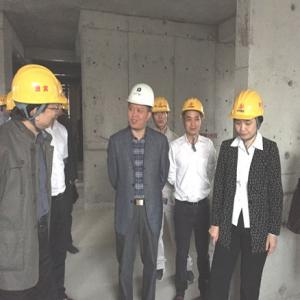white: (125, 81, 155, 131)
yellow: (11, 65, 59, 132), (233, 91, 265, 139), (181, 97, 205, 137), (151, 97, 173, 131), (2, 93, 9, 114)
